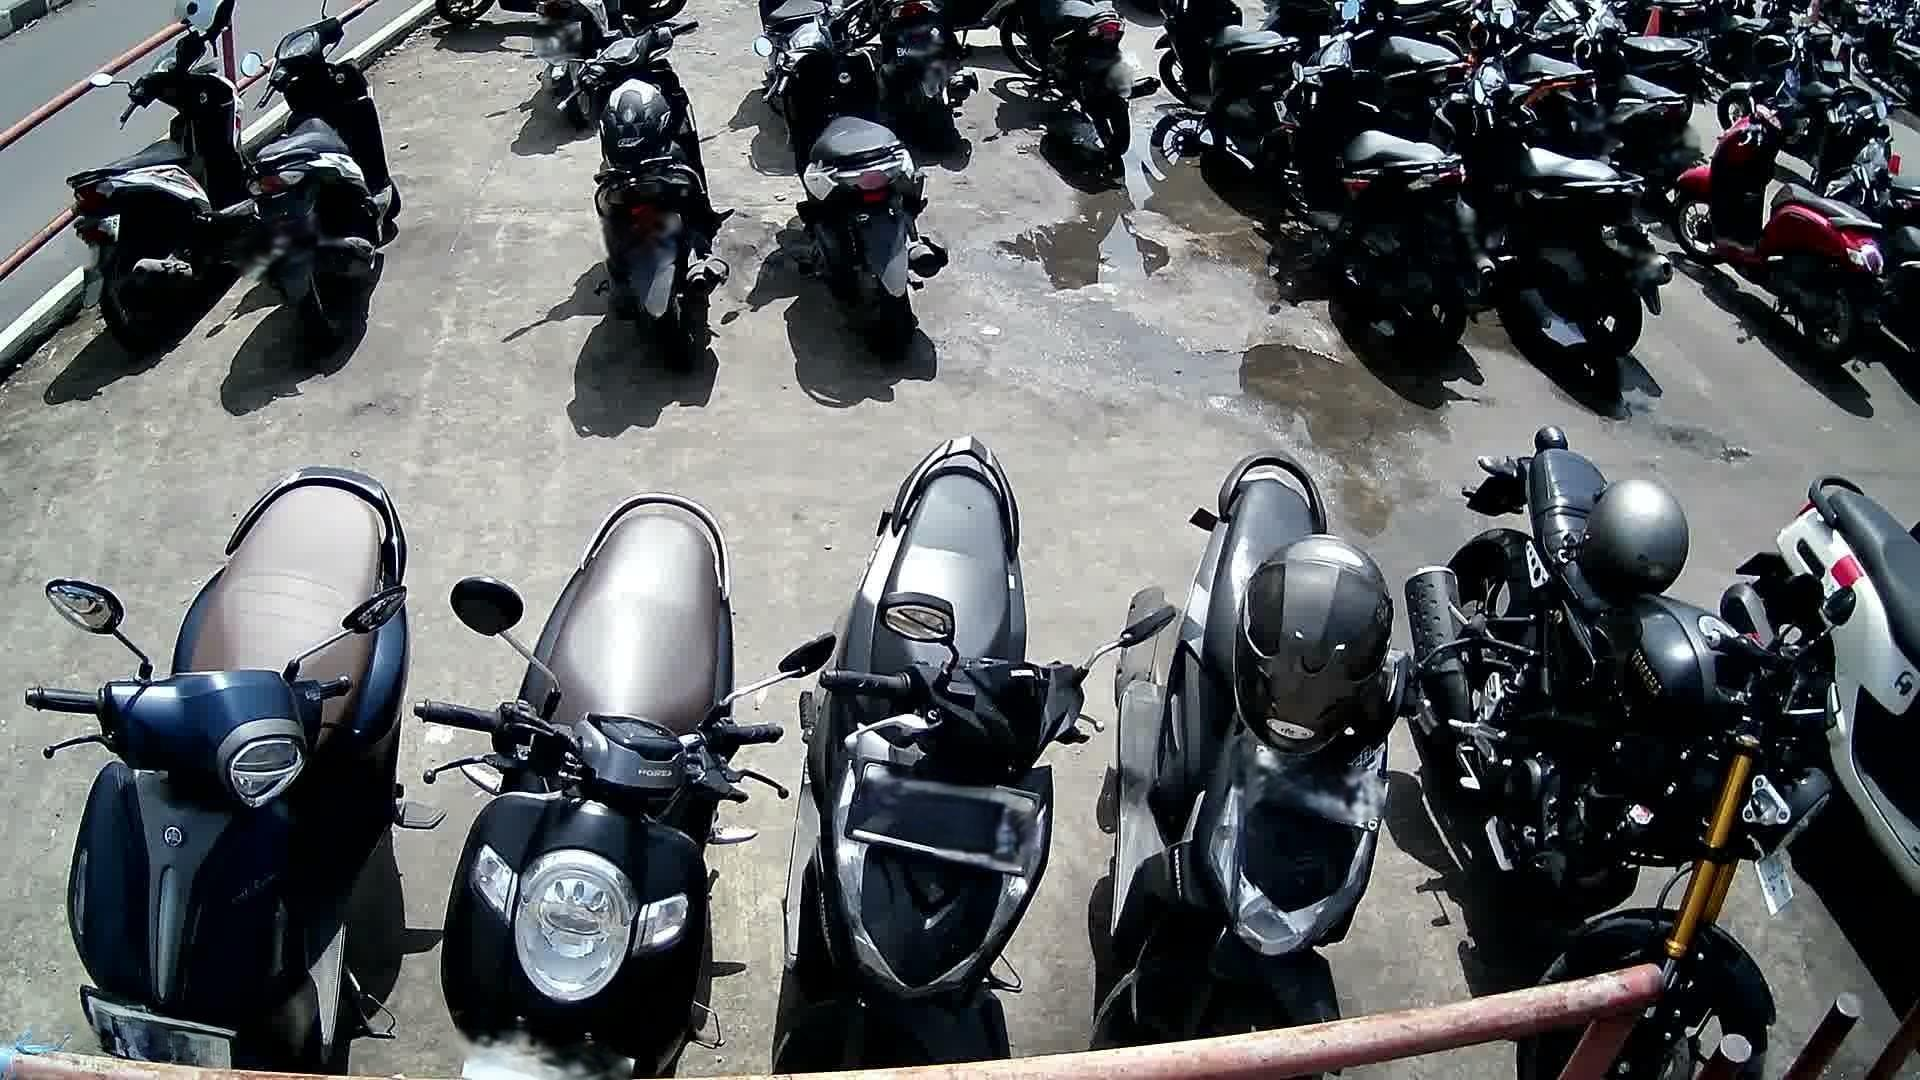motorcycle: (1404, 422, 1857, 1080), (22, 462, 443, 1073), (415, 489, 839, 1080), (775, 436, 1172, 1059), (1097, 452, 1489, 1043), (1720, 469, 1920, 914), (1428, 12, 1672, 365), (1271, 3, 1497, 368), (753, 3, 951, 359), (550, 22, 737, 375), (63, 21, 257, 355), (1671, 69, 1882, 368), (243, 11, 405, 353)
